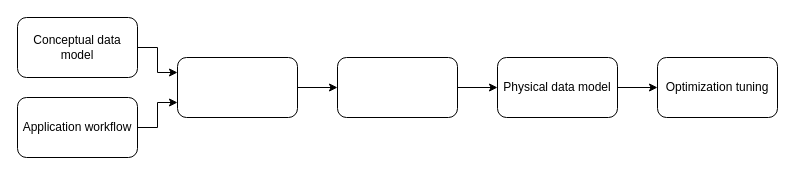
Image size: 795x175. Some labels were removed from this diagram. Here are the shapes that lost their labels. From the top down, the centre of each, then its label:
At point 237,87: "Mapping conceptual to logic".
At point 397,87: "Logical data model".
